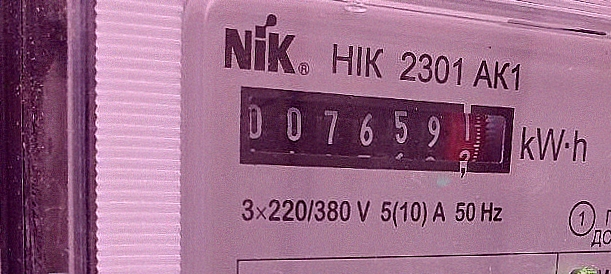0: (281, 102, 305, 144), (242, 100, 265, 141)
1: (458, 111, 475, 145)
5: (390, 107, 410, 146)
6: (355, 109, 376, 148)
7: (320, 107, 339, 147)
9: (424, 113, 441, 150)
screen: (228, 73, 523, 196)
